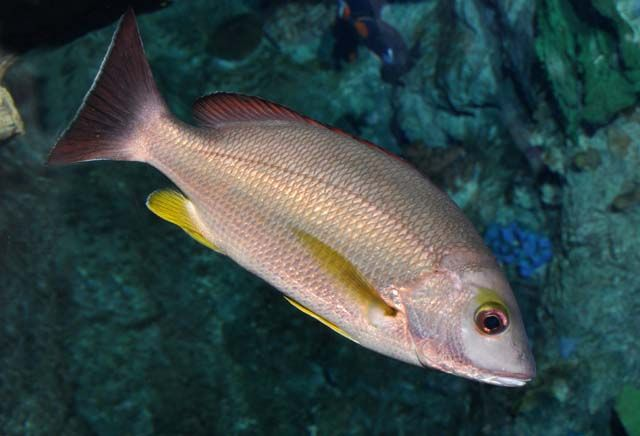fish: (44, 9, 538, 388)
